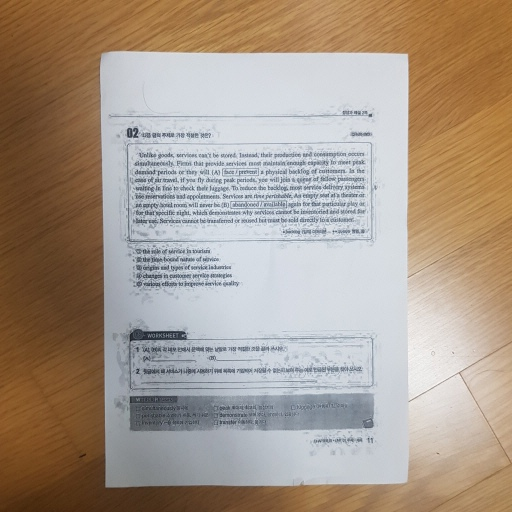Paper_2: (89, 40, 420, 500)
